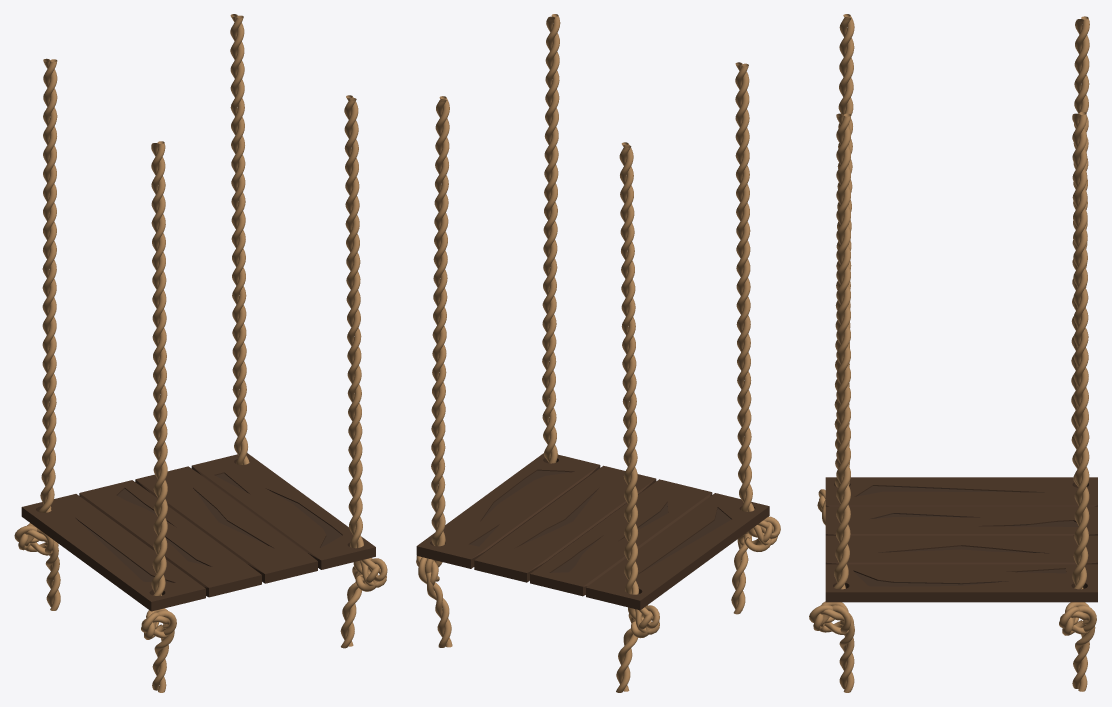
The model's file is Monte charge.fbx.
3 renders of one model, left to right at view 1: azimuth 30°, elevation 25°; view 2: azimuth 150°, elevation 25°; view 3: azimuth 270°, elevation 25°, orthographic. The views are drawn at different scales.
Visible parts, largest first — view 1: Cube.001, Cercle.004, Cercle.006, Cercle.005, Cercle.007; view 2: Cube.001, Cercle.005, Cercle.006, Cercle.007, Cercle.004; view 3: Cube.001, Cercle.004, Cercle.007, Cercle.005, Cercle.006.
Boxes of the visible parts, x1,y1,x2,y2 form: Cube.001: (21,453,375,611); Cercle.004: (340,95,387,648); Cercle.006: (14,58,60,610); Cercle.005: (141,141,176,692); Cercle.007: (230,14,249,464); Cube.001: (416,453,769,610); Cercle.005: (731,62,780,614); Cercle.006: (616,142,659,692); Cercle.007: (416,96,452,647); Cercle.004: (542,14,560,463); Cube.001: (825,477,1097,602); Cercle.004: (809,113,854,692); Cercle.007: (1059,112,1096,691); Cercle.005: (817,14,854,525); Cercle.006: (1071,16,1089,487).
Size of the model in its own units: 552 by 1151 by 523.
